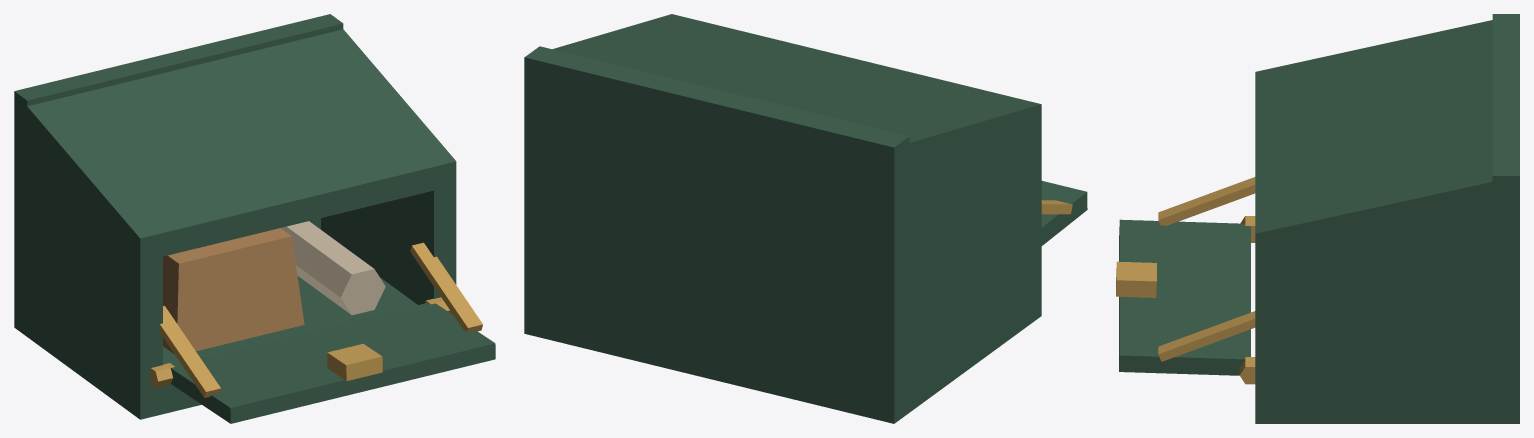
File: FN_Bin_Bread.obj
3 views of the same model, side by side, from view 1: azimuth 30°, elevation 25°; view 2: azimuth 150°, elevation 25°; view 3: azimuth 270°, elevation 25° (orthographic). The views are drawn at different scales.
Parts seen in each view (by area): view 1: FN_Bin_Bread; view 2: FN_Bin_Bread; view 3: FN_Bin_Bread.
Boxes of the visible parts, x1,y1,x2,y2 form: FN_Bin_Bread: [14, 14, 495, 423]; FN_Bin_Bread: [524, 14, 1087, 423]; FN_Bin_Bread: [1116, 14, 1519, 423].
Size of the model in its own units: 0.42 by 0.3 by 0.4426.
1 material, 1 textured.
